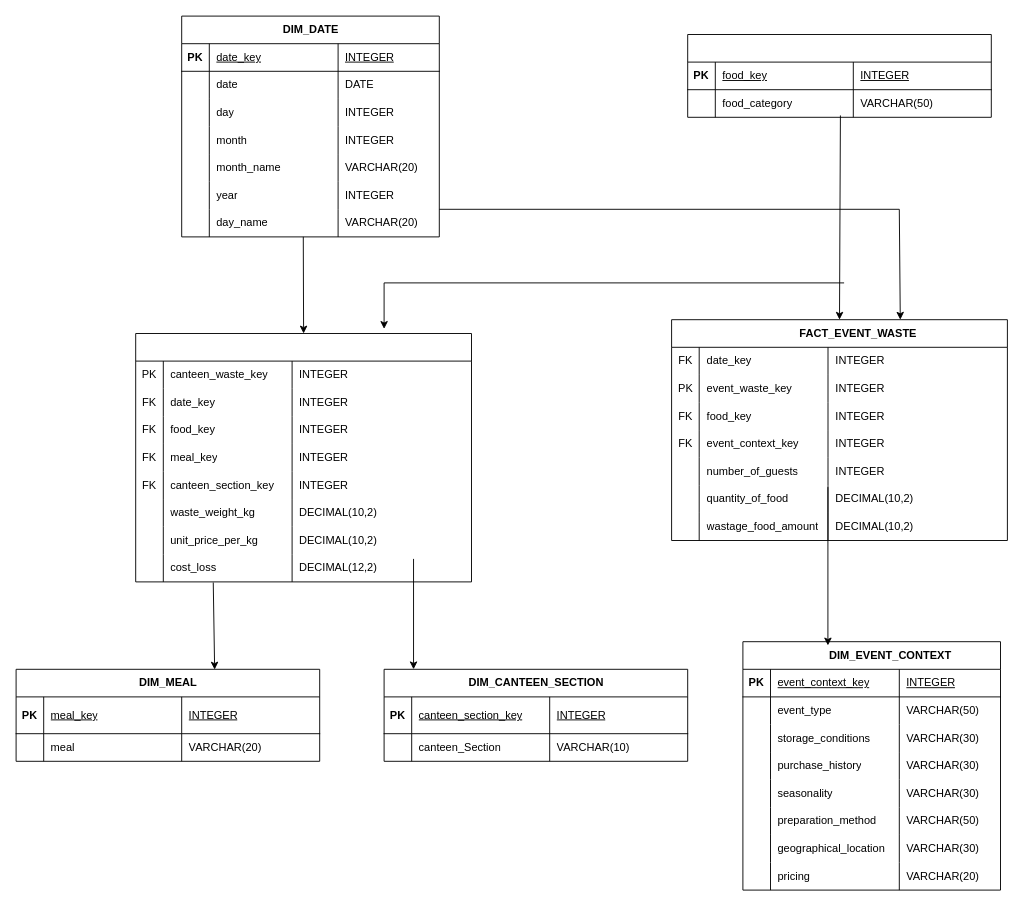
The diagram is 1024 pixels wide and 906 high, and some of its shapes have lost their labels. Each missing label, with the box of its shape:
DIM_FOOD: (687, 34, 991, 117)
FACT_CANTEEN_WASTE: (135, 333, 472, 582)
